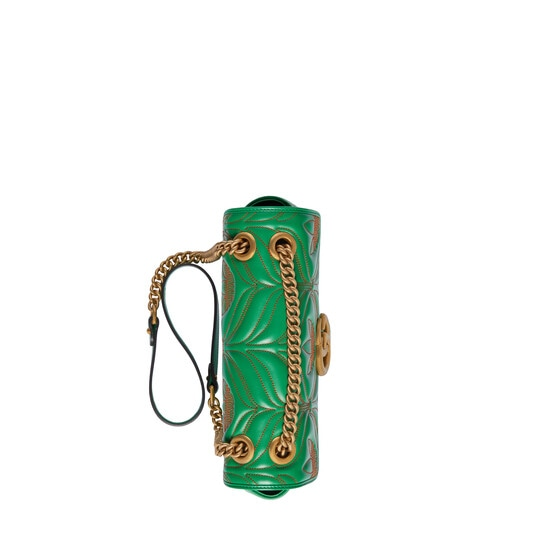Gucci: (148, 200, 327, 504)
